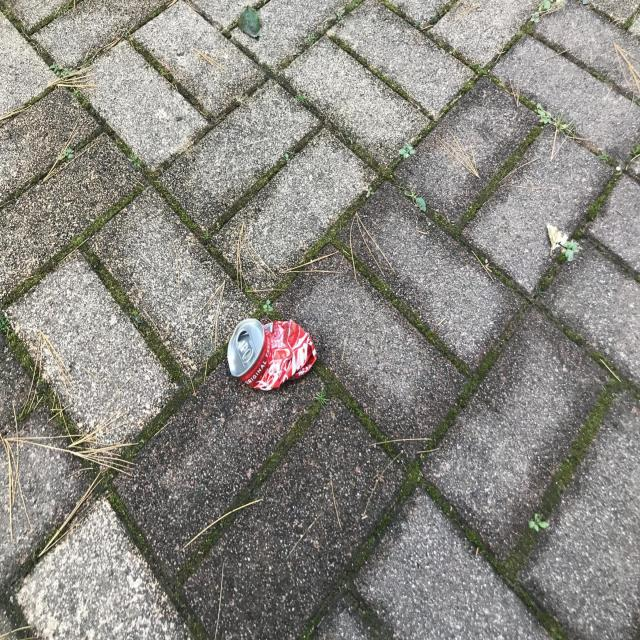can: (227, 318, 317, 390)
